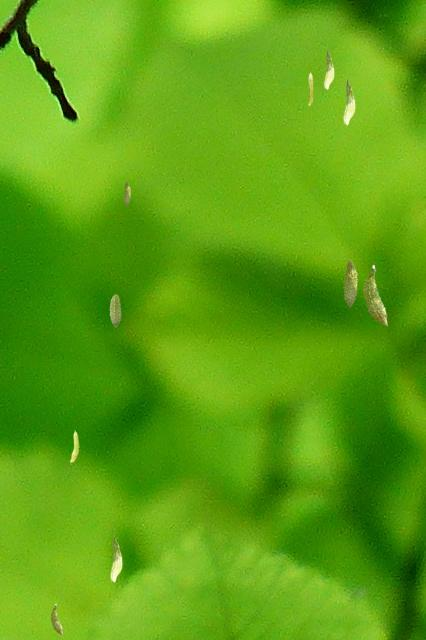ampalaya: (362, 264, 388, 326), (343, 259, 358, 307), (343, 77, 355, 126), (110, 534, 122, 583), (323, 48, 334, 90), (50, 603, 63, 635), (109, 293, 121, 327), (69, 429, 79, 462), (123, 181, 131, 206), (308, 72, 313, 106)
